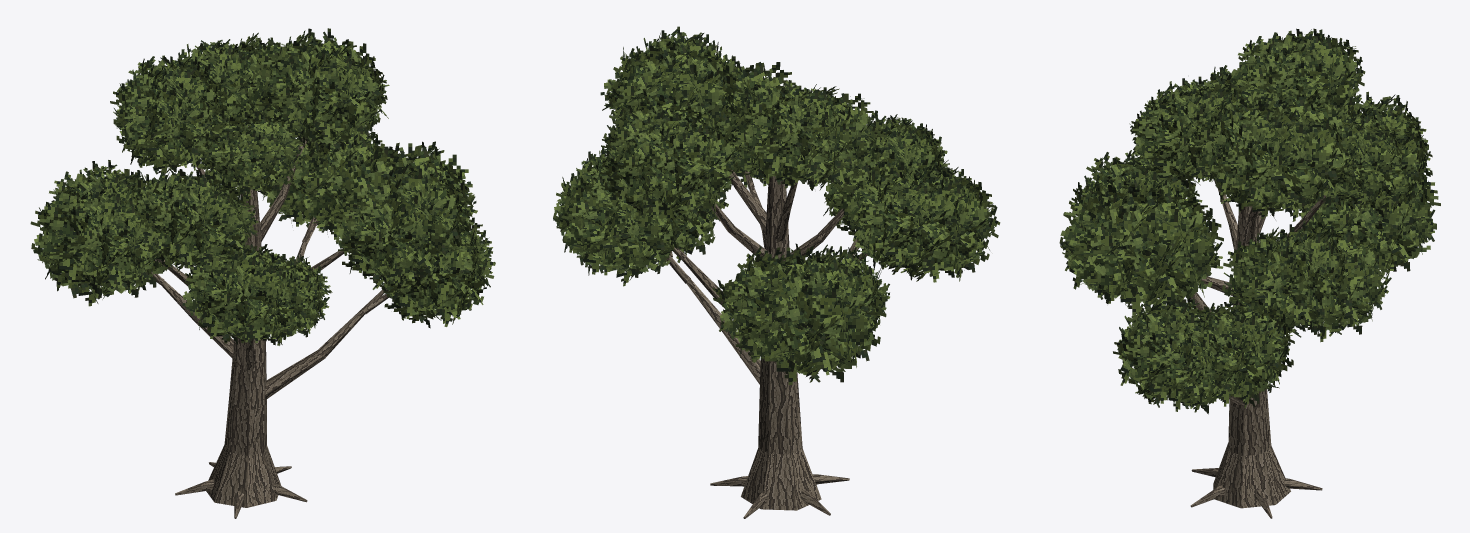
File: TREE_Oak_B.glb
3 renders of one model, left to right at view 1: azimuth 30°, elevation 25°; view 2: azimuth 150°, elevation 25°; view 3: azimuth 270°, elevation 25°, orthographic. The views are drawn at different scales.
Visible parts, largest first — view 1: TREE_Oak_B__Card, TREE_Oak_B__Bark; view 2: TREE_Oak_B__Card, TREE_Oak_B__Bark; view 3: TREE_Oak_B__Card, TREE_Oak_B__Bark.
Part boxes in pixels (<box>): TREE_Oak_B__Card: <box>30,28,495,345</box>; TREE_Oak_B__Bark: <box>148,137,388,518</box>; TREE_Oak_B__Card: <box>553,26,1000,384</box>; TREE_Oak_B__Bark: <box>666,170,876,518</box>; TREE_Oak_B__Card: <box>1059,28,1440,414</box>; TREE_Oak_B__Bark: <box>1189,172,1325,518</box>.
Bounding box in the file's own units: 12.65 × 11.65 × 9.94.
3 materials, 3 textured.
